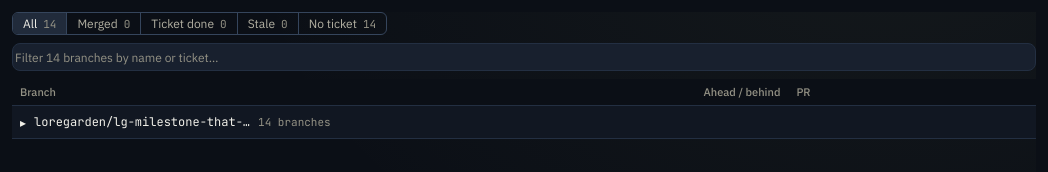
Scenario: BranchTriageList families › does not fold while you search, so a match is always a row
The image size is (1048, 172).
Type "1305" into the search field named "Filter branches by name or linked ticket" at [524, 57], box [12,43,1036,71]
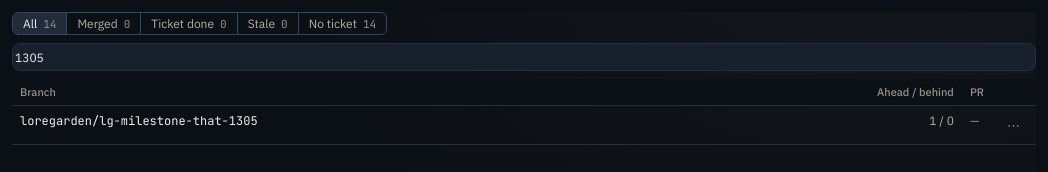
Now the button "loregarden/lg-milestone-that-1305" is shown, box [20,113,258,129]
